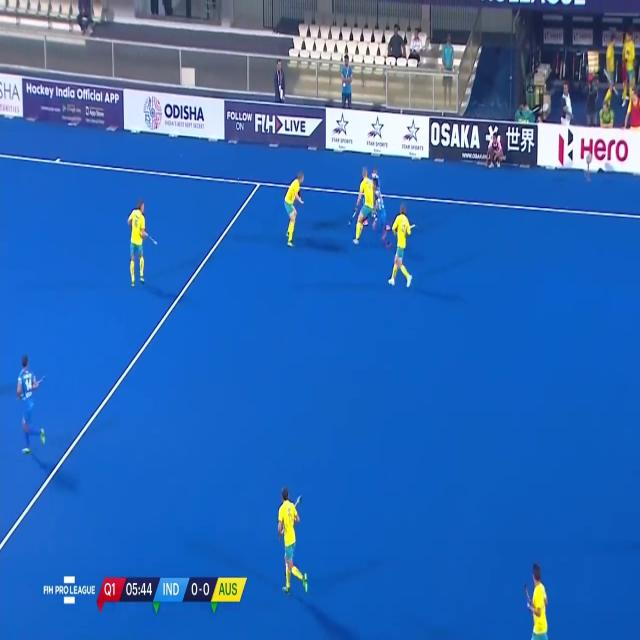ball: (344, 218, 352, 230)
